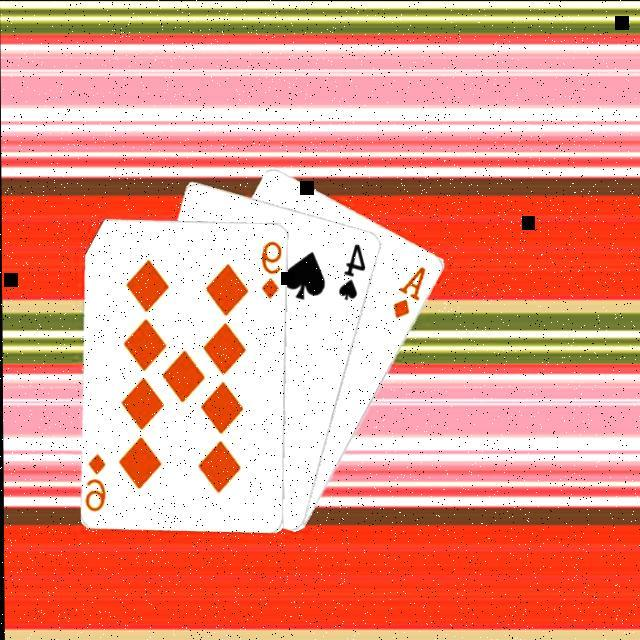4S: (336, 240, 371, 302)
9D: (260, 238, 285, 302), (86, 451, 110, 515)
AD: (391, 264, 431, 322)
